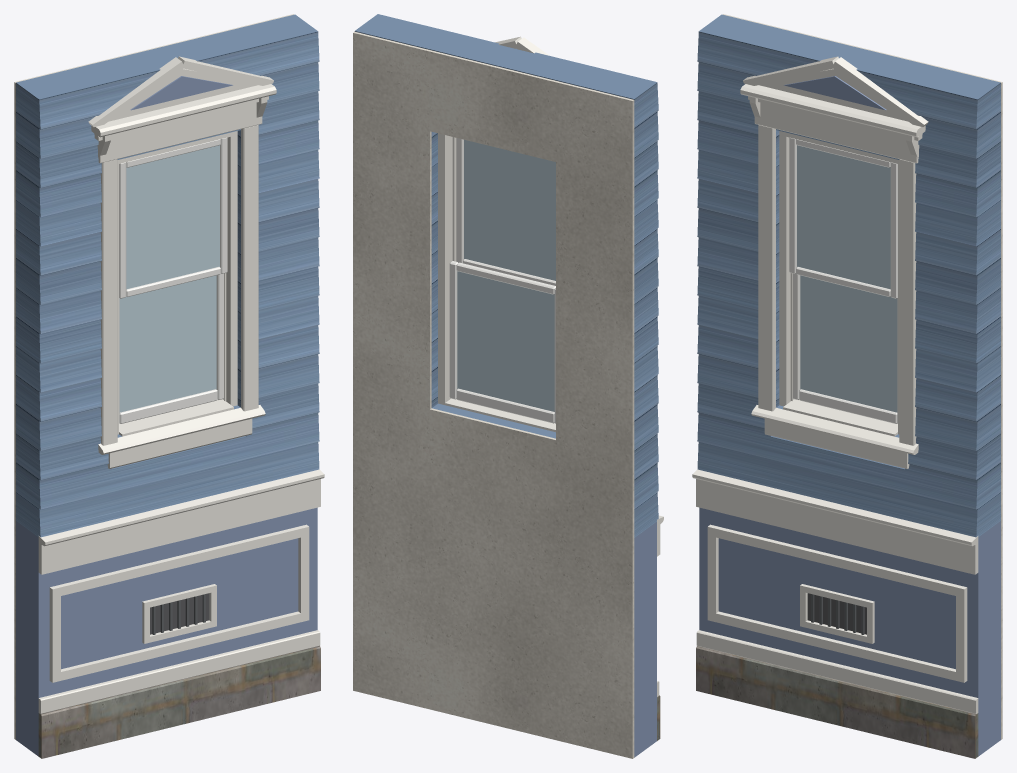
File: f_g_win_d.glb
3 views of the same model, side by side, from view 1: azimuth 30°, elevation 25°; view 2: azimuth 150°, elevation 25°; view 3: azimuth 330°, elevation 25° (orthographic).
Visible parts, largest first — view 1: f_g_win_d_siding_d, f_g_win_d_trim, f_g_win_d_acc_d, f_g_win_d_glass, f_g_win_d_plinth, f_g_win_d_sash, f_g_win_d_frame, f_g_win_d_plaster, f_g_win_d_dark, f_g_win_d_iron; view 2: f_g_win_d_plaster, f_g_win_d_glass, f_g_win_d_siding_d, f_g_win_d_sash, f_g_win_d_acc_d, f_g_win_d_frame, f_g_win_d_trim; view 3: f_g_win_d_siding_d, f_g_win_d_trim, f_g_win_d_acc_d, f_g_win_d_glass, f_g_win_d_plinth, f_g_win_d_sash, f_g_win_d_frame, f_g_win_d_plaster, f_g_win_d_dark, f_g_win_d_iron.
Part boxes in pixels (x1,y1,x2,y2): f_g_win_d_siding_d: (16,14,319,537); f_g_win_d_trim: (38,56,324,713); f_g_win_d_acc_d: (16,76,317,756); f_g_win_d_glass: (119,145,219,412); f_g_win_d_plinth: (38,646,320,758); f_g_win_d_sash: (119,137,227,423); f_g_win_d_frame: (117,131,237,434); f_g_win_d_plaster: (14,14,293,739); f_g_win_d_dark: (150,593,209,634); f_g_win_d_iron: (152,594,205,634); f_g_win_d_plaster: (353,31,634,758); f_g_win_d_glass: (457,139,555,411); f_g_win_d_siding_d: (354,14,658,537); f_g_win_d_sash: (449,138,555,423); f_g_win_d_acc_d: (634,522,656,757); f_g_win_d_frame: (438,133,456,404); f_g_win_d_trim: (445,36,663,696); f_g_win_d_siding_d: (697,14,1000,537); f_g_win_d_trim: (692,56,978,713); f_g_win_d_acc_d: (699,76,1000,756); f_g_win_d_glass: (797,145,897,412); f_g_win_d_plinth: (696,646,978,758); f_g_win_d_sash: (789,137,897,423); f_g_win_d_frame: (779,131,899,434); f_g_win_d_plaster: (723,14,1002,739); f_g_win_d_dark: (807,593,866,634); f_g_win_d_iron: (811,594,864,634).
Bounding box in the file's own units: 2 × 4.55 × 0.43.
Materials: 10 (3 with a texture image).
